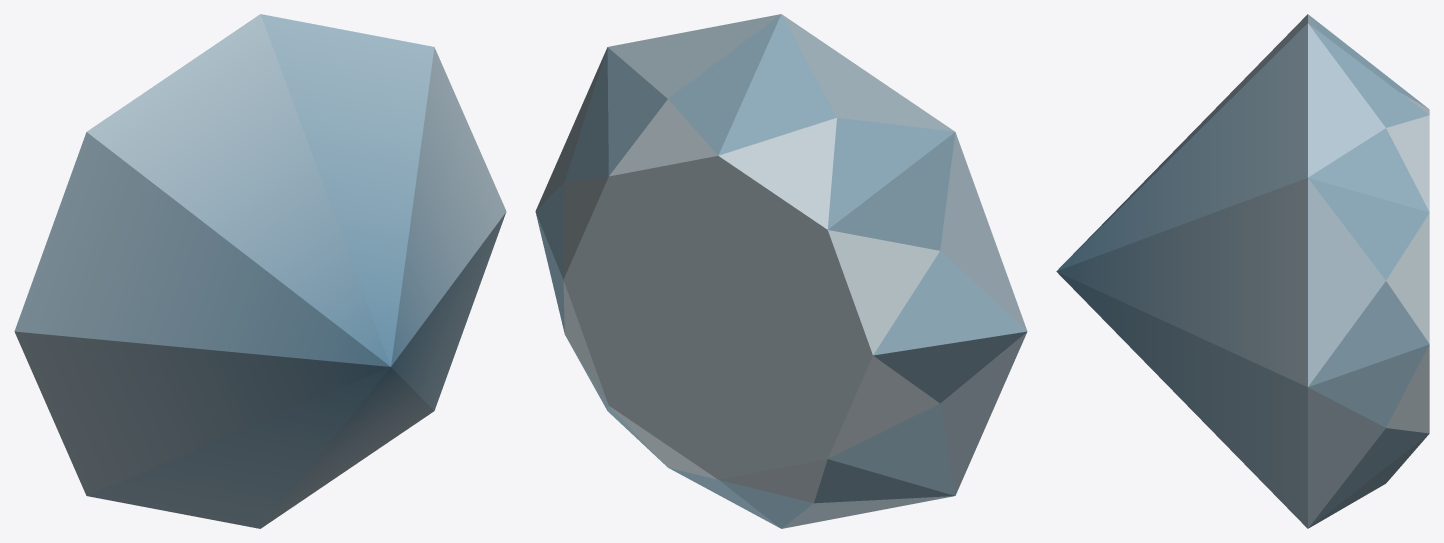
Rendered from Diamond.002.glb.
3 renders of one model, left to right at view 1: azimuth 30°, elevation 25°; view 2: azimuth 150°, elevation 25°; view 3: azimuth 270°, elevation 25°, orthographic. The views are drawn at different scales.
Parts seen in each view (by area): view 1: Diamond.002; view 2: Diamond.002; view 3: Diamond.002.
Boxes of the visible parts, box(x1,y1,x2,y2) form: Diamond.002: box(14, 14, 506, 528); Diamond.002: box(535, 14, 1027, 528); Diamond.002: box(1056, 14, 1429, 528).
Size of the model in its own units: 51.05 by 51.05 by 34.8.
